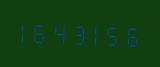five: (107, 20, 124, 48)
four: (53, 19, 70, 46)
one: (17, 17, 34, 45), (89, 20, 106, 47)
six: (35, 18, 52, 46), (125, 21, 142, 49)
three: (71, 19, 88, 47)
